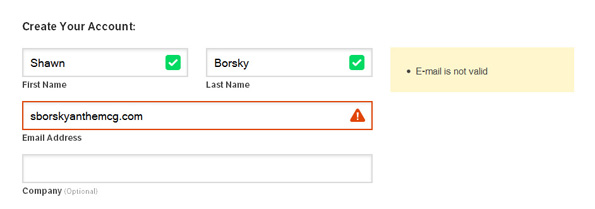_form_: (1, 1, 416, 209)
field: (20, 100, 374, 131), (22, 153, 374, 184), (204, 47, 374, 79), (21, 47, 189, 78)
field_with_label: (19, 152, 376, 198), (19, 98, 377, 141), (202, 46, 376, 90), (19, 46, 192, 90)
